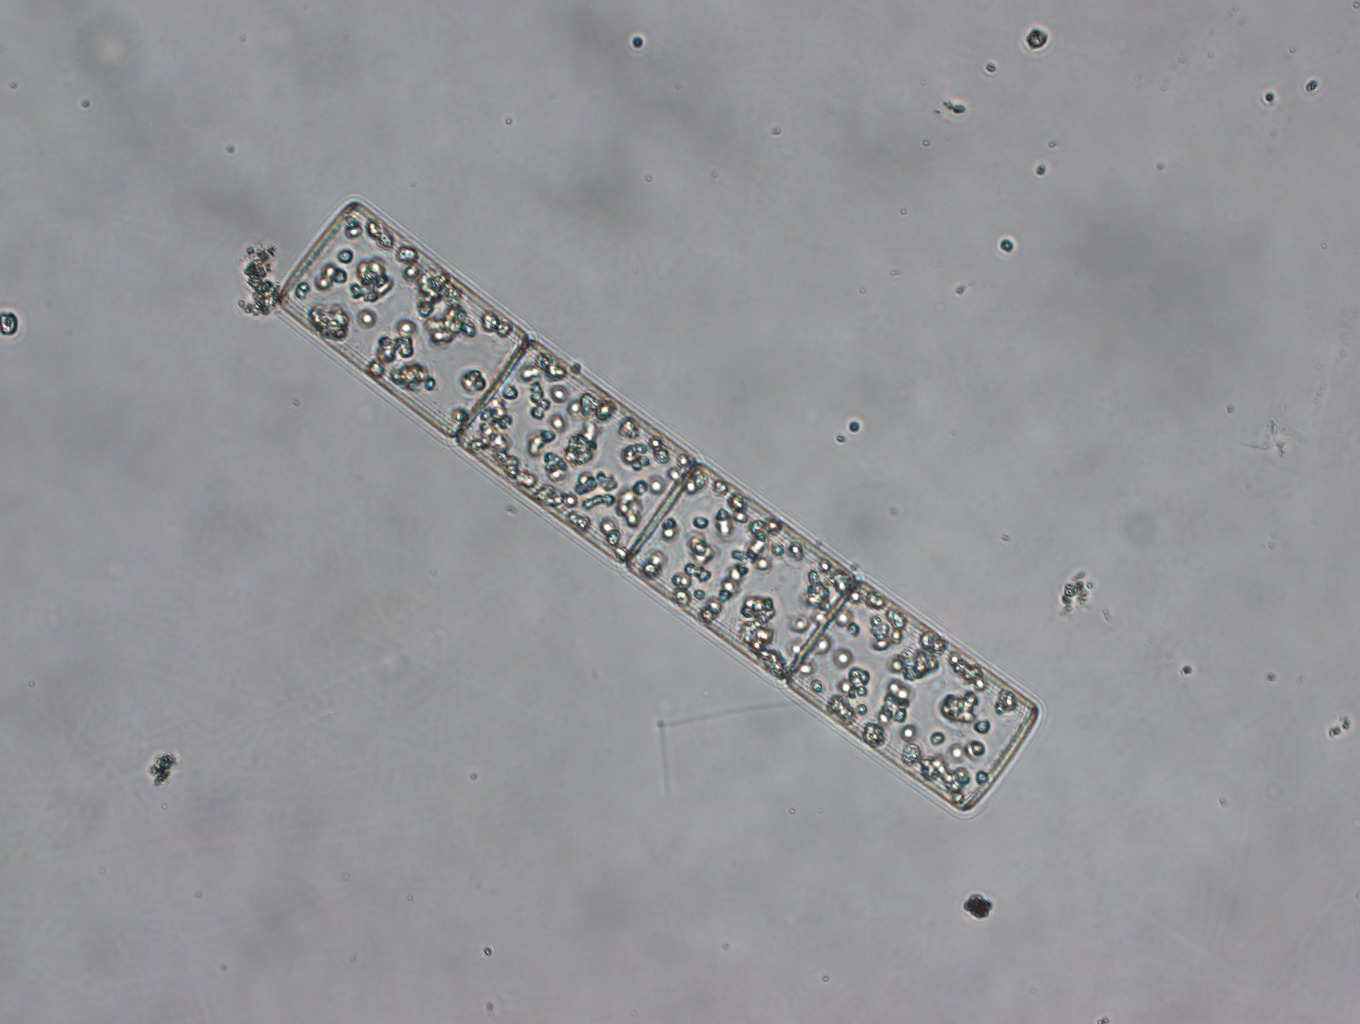guinardia flaccida: (278, 200, 1040, 810)
